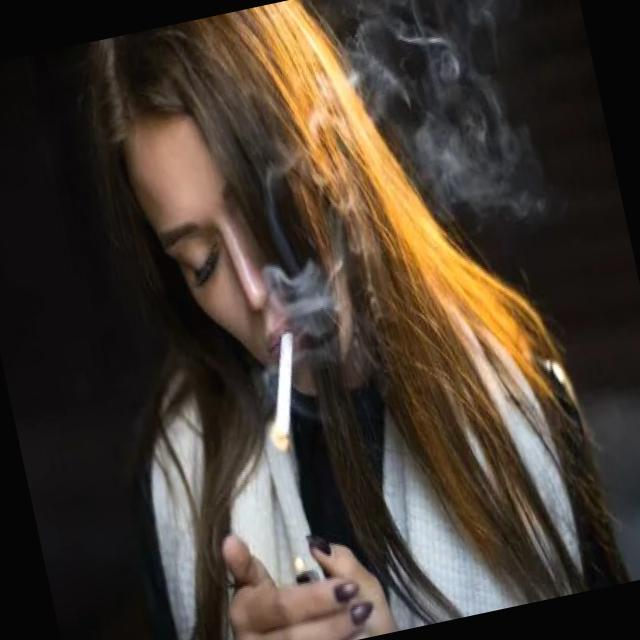smoke: (247, 318, 322, 462)
